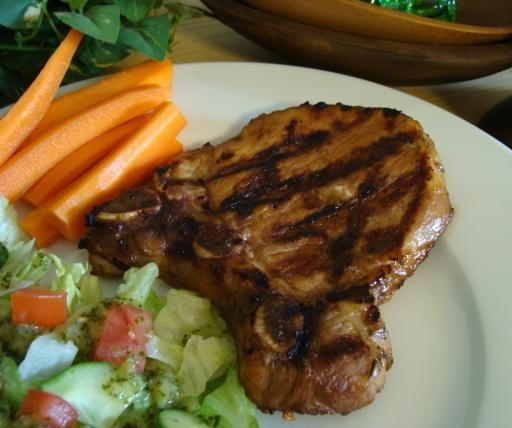background: (0, 0, 364, 286)
